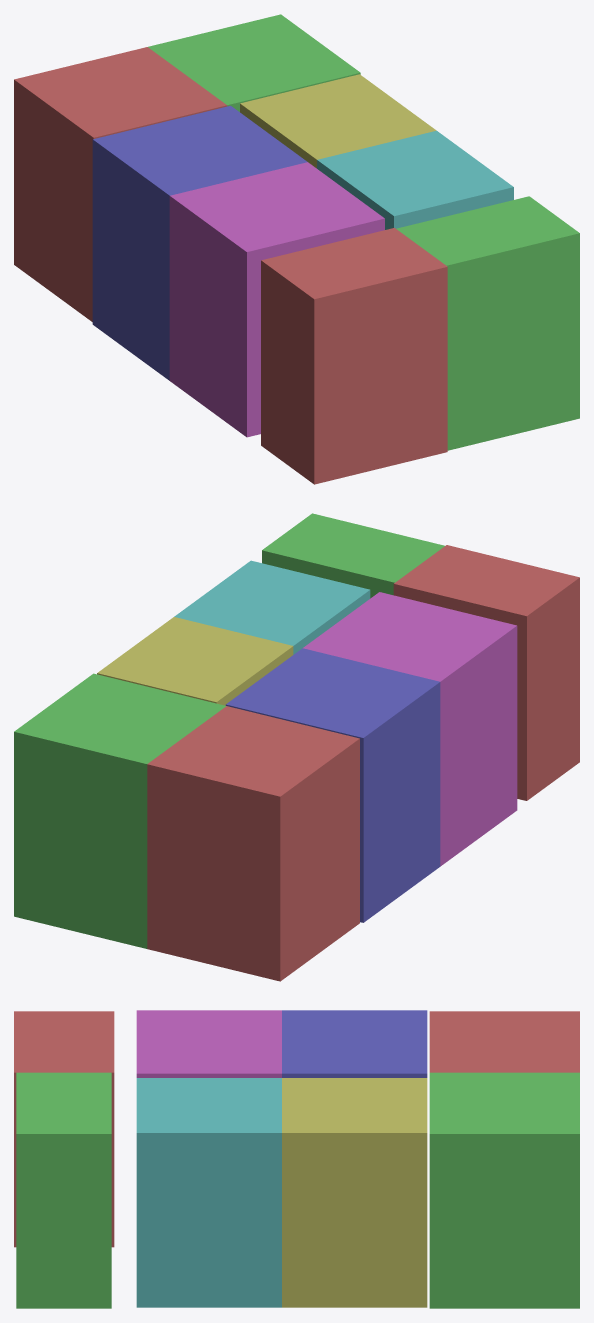
Rendered from Ladda ner pall_0.glb.
3 views of the same model, one above another, from view 1: azimuth 30°, elevation 25°; view 2: azimuth 150°, elevation 25°; view 3: azimuth 270°, elevation 25° (orthographic). The views are drawn at different scales.
Visible parts, largest first — view 1: world; view 2: world; view 3: world.
Boxes of the visible parts, <box> form: world: <box>14,14,579,484</box>; world: <box>14,513,579,981</box>; world: <box>14,1010,579,1308</box>.
Size of the model in its own units: 1174 by 772 by 2268.
